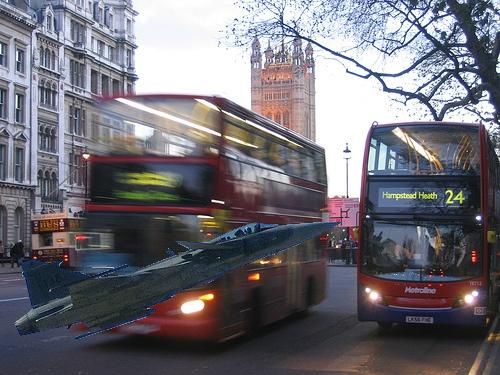tampered: (15, 221, 346, 339)
